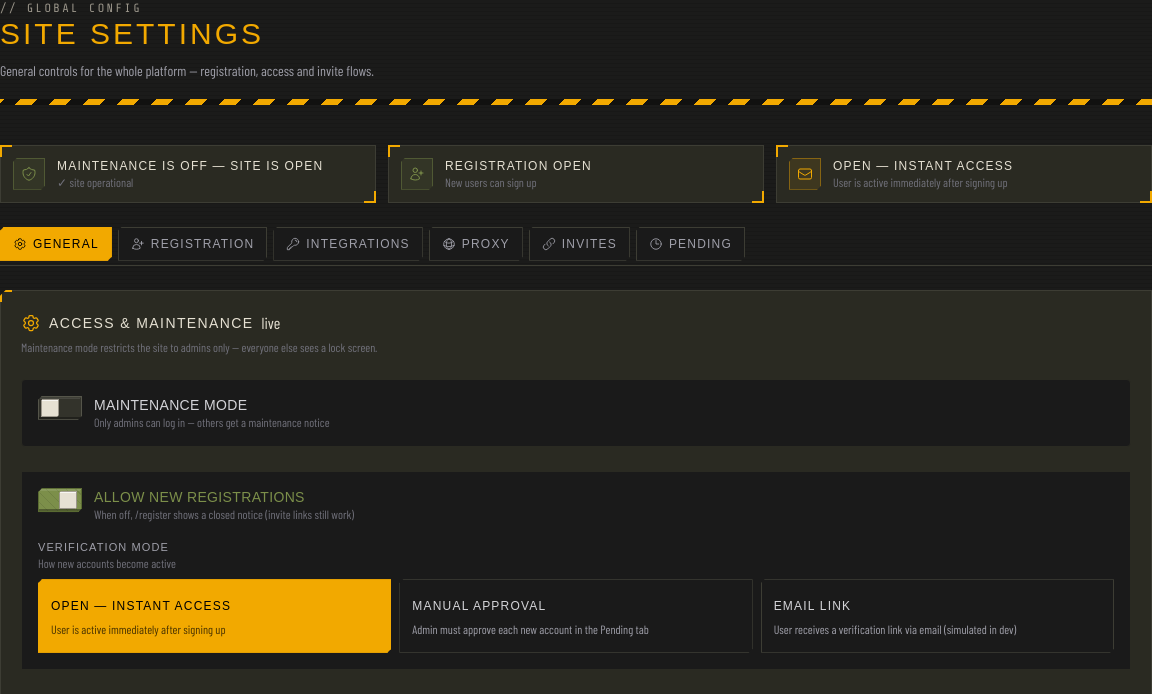
GlobalSettingsForm invites › shows the empty invite hint when there are none
Click the button "Invites" at (579, 244), box [529,227,630,261]
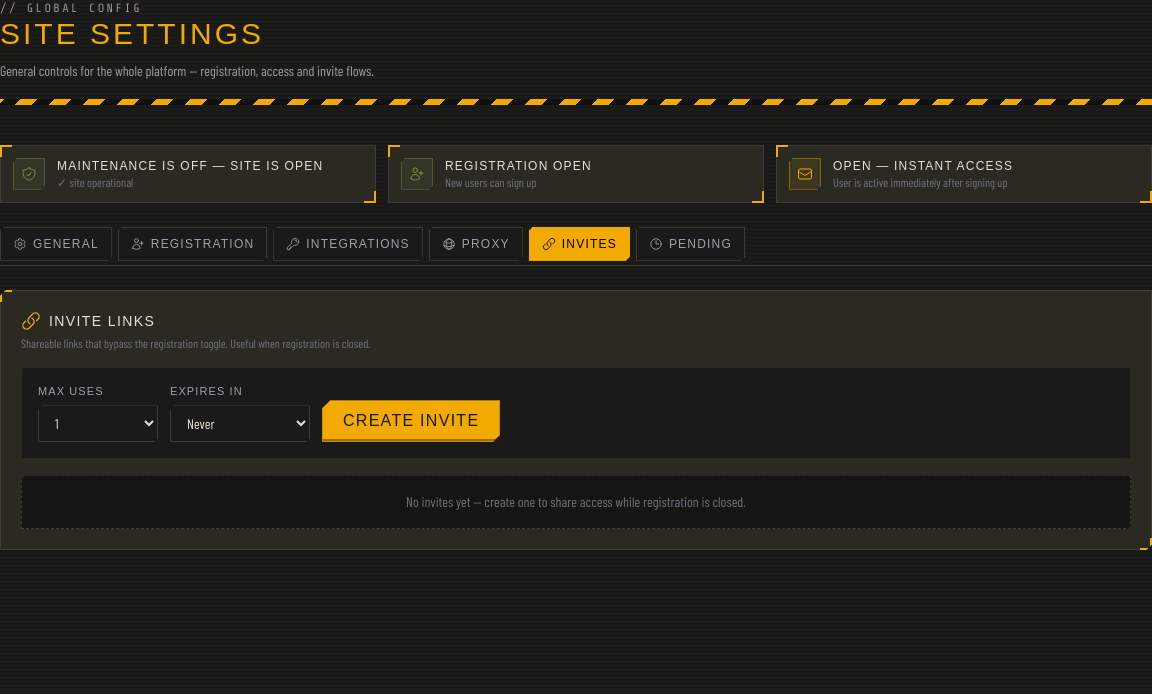
Expected: the text "No invites yet — create one to share access while registration is closed." is shown, [21,476,1131,530]
